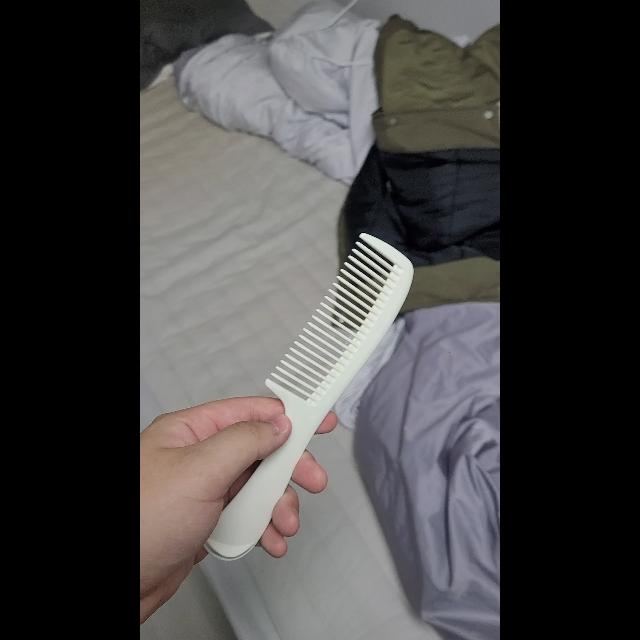COMB: (202, 233, 414, 563)
